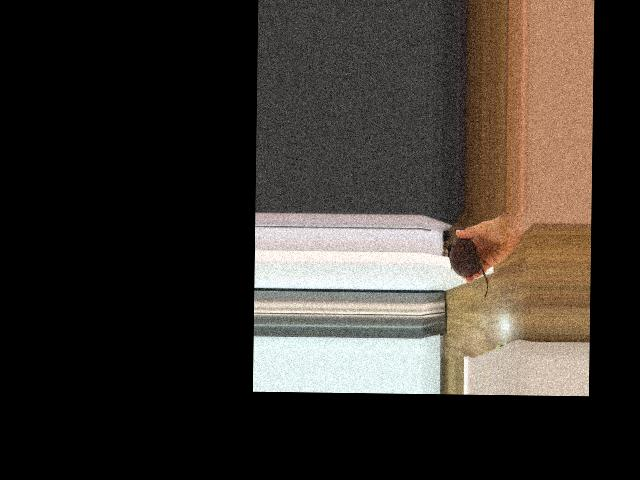beet: (447, 238, 488, 299)
